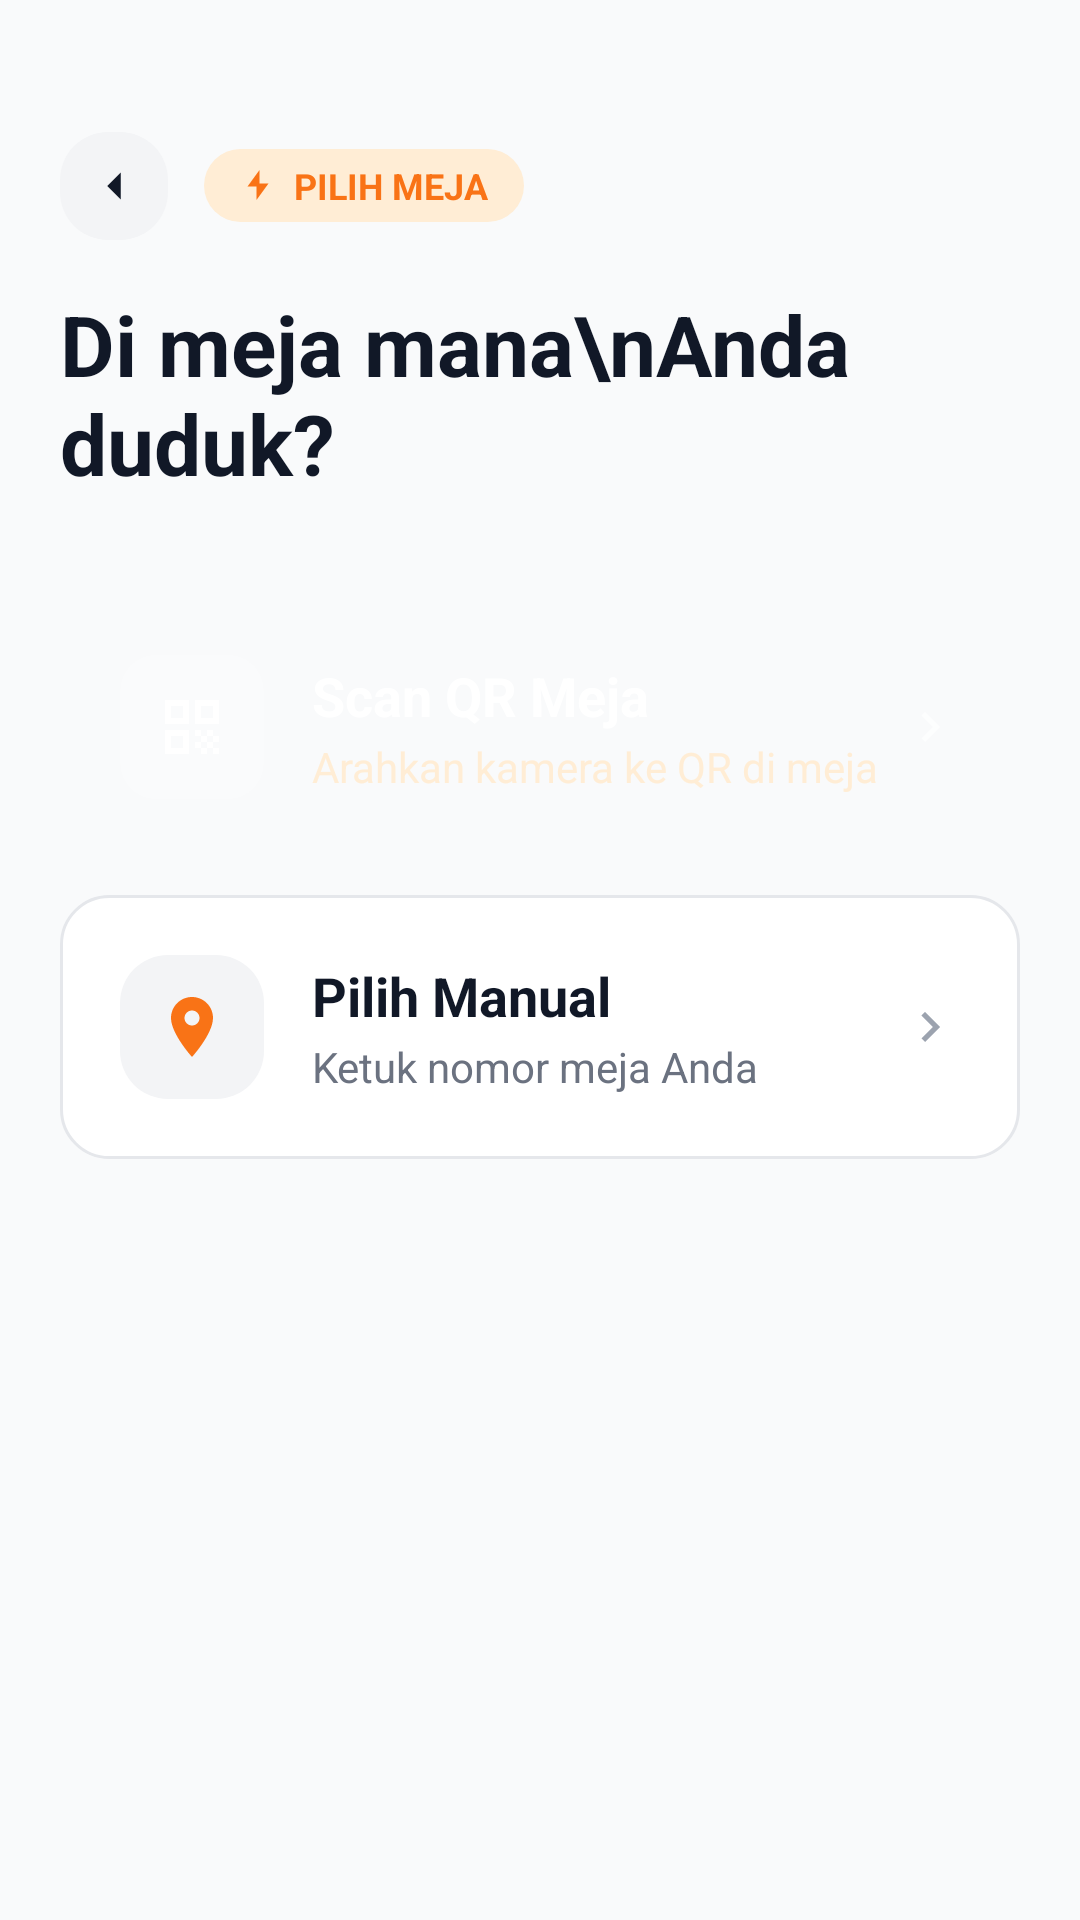

Icon click points for this 1080w x 1920h phone screenshot, format (x,y):
arrow left: (114,186)
chevron right: (930,1027)
map pin: (192,1027)
zap: (258,185)
